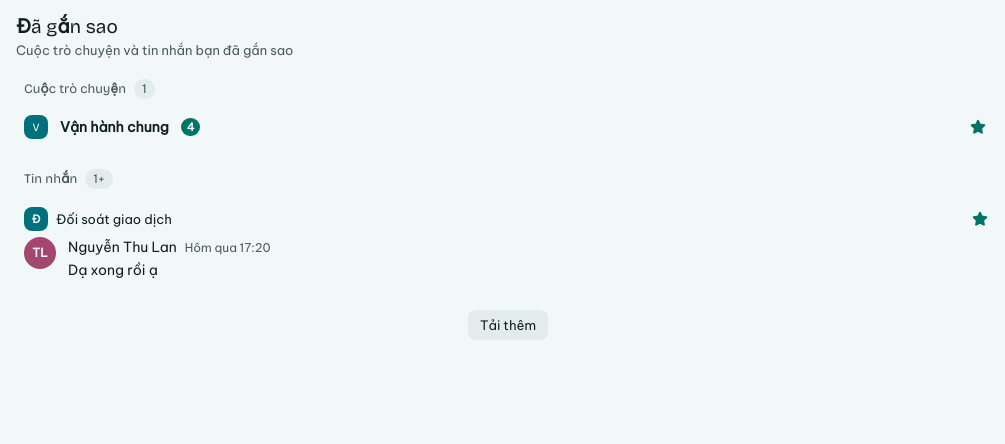
Test case: StarredView › pages the messages with Tải thêm
The width and height of the screenshot is (1005, 444).
Expected: the text "Dạ xong rồi ạ" is shown, [68, 261, 158, 279]
Click the button "Tải thêm".
click(508, 325)  # box [468, 310, 548, 340]
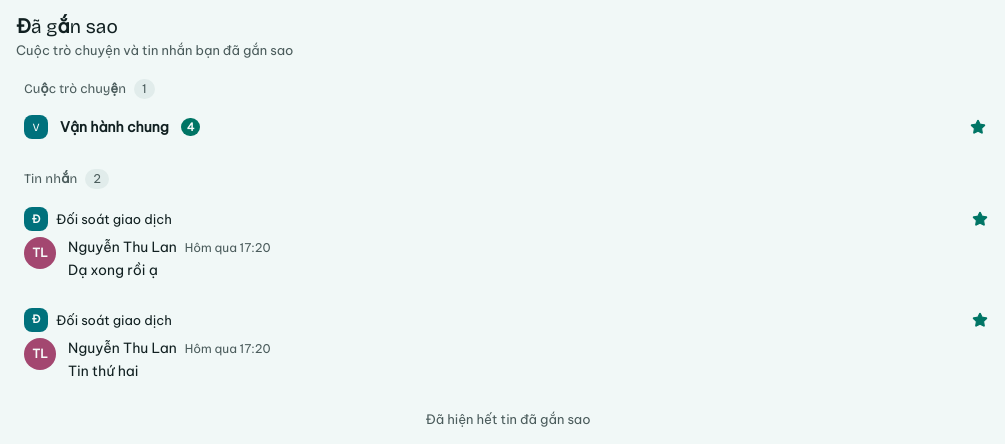
Expected: the text "Tin thứ hai" is shown, [68, 362, 138, 380]
